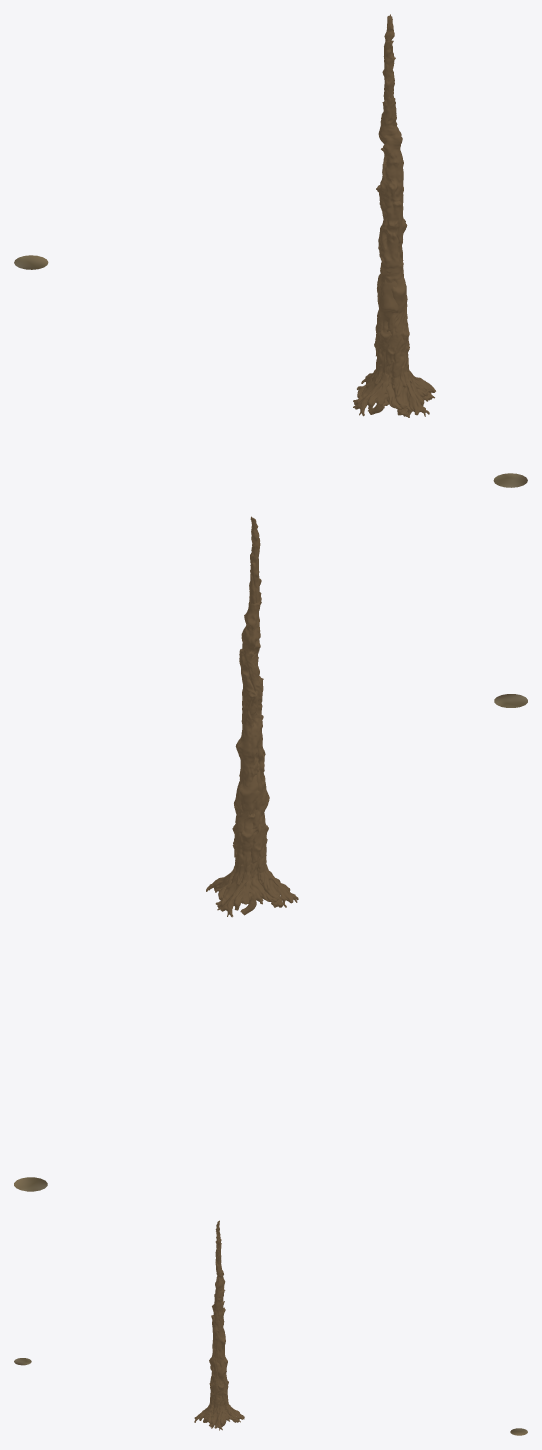
File: tile_-3_2.glb
The picture shows the model from 3 angles, top to bottom: view 1: azimuth 30°, elevation 25°; view 2: azimuth 150°, elevation 25°; view 3: azimuth 270°, elevation 25°; orthographic projection. The views are drawn at different scales.
Visible parts, largest first — view 1: mesh[1].067, mesh[0].103, mesh[0].095; view 2: mesh[0].103, mesh[1].067, mesh[0].095; view 3: mesh[0].103, mesh[1].067, mesh[0].095.
Boxes of the visible parts, box(x1,y1,x2,y2) form: mesh[1].067: box(376, 14, 407, 296); mesh[0].103: box(353, 309, 435, 417); mesh[0].095: box(377, 271, 407, 321); mesh[0].103: box(206, 803, 298, 917); mesh[1].067: box(235, 516, 265, 802); mesh[0].095: box(234, 770, 269, 816); mesh[0].103: box(194, 1369, 244, 1430); mesh[1].067: box(211, 1220, 225, 1363); mesh[0].095: box(209, 1354, 227, 1381).
Size of the model in its own units: 102 by 336 by 684.
Materials: 2 (1 with a texture image).
